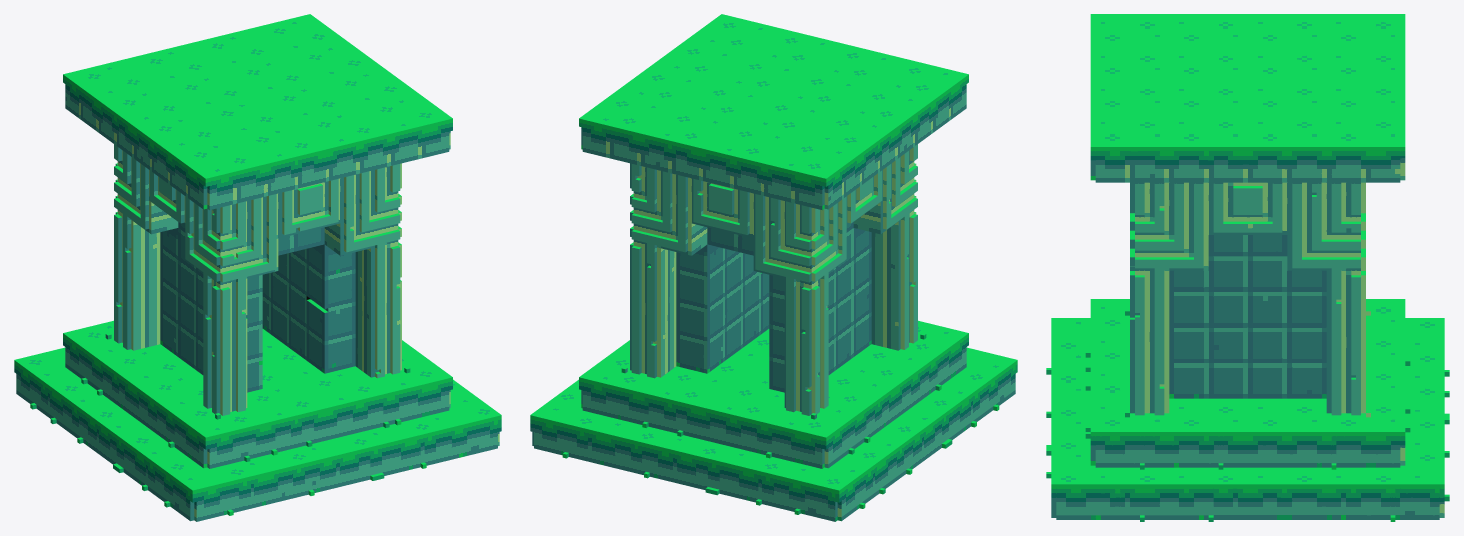
The model's file is owl_baseao.fezao.glb.
The picture shows the model from 3 angles, left to right: view 1: azimuth 30°, elevation 25°; view 2: azimuth 150°, elevation 25°; view 3: azimuth 270°, elevation 25°; orthographic projection. The views are drawn at different scales.
Parts seen in each view (by area): view 1: OWL_BASEAO; view 2: OWL_BASEAO; view 3: OWL_BASEAO.
Boxes of the visible parts, x1=… form: OWL_BASEAO: x1=14, y1=14, x2=501, y2=521; OWL_BASEAO: x1=530, y1=14, x2=1017, y2=521; OWL_BASEAO: x1=1046, y1=14, x2=1449, y2=521.
Size of the model in its own units: 5.12 by 5 by 5.12.
Materials: 1 (1 with a texture image).
